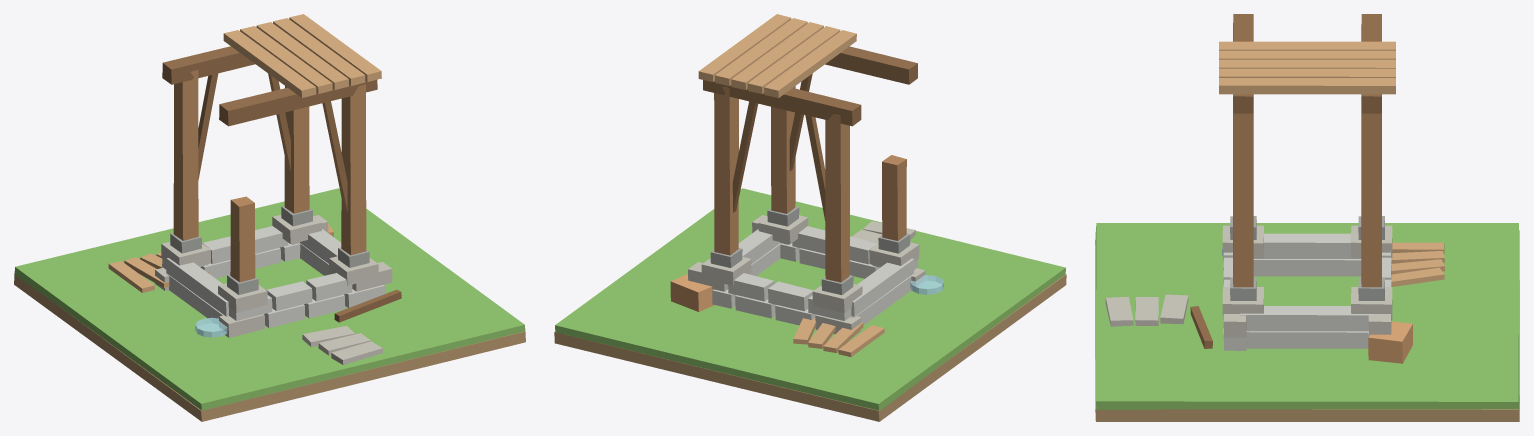
File: tower_l03_damaged_LOD2.glb
The picture shows the model from 3 angles, left to right: view 1: azimuth 30°, elevation 25°; view 2: azimuth 150°, elevation 25°; view 3: azimuth 270°, elevation 25°; orthographic projection. The views are drawn at different scales.
Parts seen in each view (by area): view 1: tower_l03_grass_tile_tower_l03_damaged_LOD2_tmp, tower_l03_earth_tile_tower_l03_damaged_LOD2_tmp, post_-0.61_0.54_tower_l03_damaged_LOD2_tmp, post_0.61_-0.54_tower_l03_damaged_LOD2_tmp, deck_bearer_-0.54_tower_l03_damaged_LOD2_tmp, post_0.61_0.54_tower_l03_damaged_LOD2_tmp, post_-0.61_-0.54_tower_l03_damaged_LOD2_tmp, deck_bearer_0.54_tower_l03_damaged_LOD2_tmp, deck_board_4_tower_l03_damaged_LOD2_tmp, stone_return_1_-0.72_tower_l03_damaged_LOD2_tmp, deck_board_6_tower_l03_damaged_LOD2_tmp, deck_board_7_tower_l03_damaged_LOD2_tmp (+27 smaller); view 2: tower_l03_grass_tile_tower_l03_damaged_LOD2_tmp, tower_l03_earth_tile_tower_l03_damaged_LOD2_tmp, post_-0.61_0.54_tower_l03_damaged_LOD2_tmp, post_0.61_0.54_tower_l03_damaged_LOD2_tmp, deck_bearer_0.54_tower_l03_damaged_LOD2_tmp, post_0.61_-0.54_tower_l03_damaged_LOD2_tmp, post_-0.61_-0.54_tower_l03_damaged_LOD2_tmp, deck_bearer_-0.54_tower_l03_damaged_LOD2_tmp, deck_board_4_tower_l03_damaged_LOD2_tmp, stone_return_1_-0.72_tower_l03_damaged_LOD2_tmp, deck_board_7_tower_l03_damaged_LOD2_tmp, deck_board_8_tower_l03_damaged_LOD2_tmp (+22 smaller); view 3: tower_l03_grass_tile_tower_l03_damaged_LOD2_tmp, tower_l03_earth_tile_tower_l03_damaged_LOD2_tmp, post_0.61_0.54_tower_l03_damaged_LOD2_tmp, post_0.61_-0.54_tower_l03_damaged_LOD2_tmp, deck_board_8_tower_l03_damaged_LOD2_tmp, stone_return_1_0.72_tower_l03_damaged_LOD2_tmp, stone_return_1_-0.72_tower_l03_damaged_LOD2_tmp, stone_return_0_0.72_tower_l03_damaged_LOD2_tmp, stone_return_0_-0.72_tower_l03_damaged_LOD2_tmp, deck_board_4_tower_l03_damaged_LOD2_tmp, deck_board_5_tower_l03_damaged_LOD2_tmp, deck_board_6_tower_l03_damaged_LOD2_tmp (+20 smaller).
Boxes of the visible parts, box(x1,y1,x2,y2) form: tower_l03_grass_tile_tower_l03_damaged_LOD2_tmp: box(14, 188, 525, 410); tower_l03_earth_tile_tower_l03_damaged_LOD2_tmp: box(14, 273, 525, 421); post_-0.61_0.54_tower_l03_damaged_LOD2_tmp: box(173, 70, 198, 240); post_0.61_-0.54_tower_l03_damaged_LOD2_tmp: box(341, 84, 366, 255); deck_bearer_-0.54_tower_l03_damaged_LOD2_tmp: box(219, 80, 377, 126); post_0.61_0.54_tower_l03_damaged_LOD2_tmp: box(284, 86, 309, 213); post_-0.61_-0.54_tower_l03_damaged_LOD2_tmp: box(230, 196, 255, 282); deck_bearer_0.54_tower_l03_damaged_LOD2_tmp: box(162, 46, 254, 84); deck_board_4_tower_l03_damaged_LOD2_tmp: box(223, 30, 316, 97); stone_return_1_-0.72_tower_l03_damaged_LOD2_tmp: box(166, 258, 228, 316); deck_board_6_tower_l03_damaged_LOD2_tmp: box(256, 22, 348, 89); deck_board_7_tower_l03_damaged_LOD2_tmp: box(273, 18, 365, 85); tower_l03_grass_tile_tower_l03_damaged_LOD2_tmp: box(555, 188, 1065, 411); tower_l03_earth_tile_tower_l03_damaged_LOD2_tmp: box(554, 274, 1066, 421); post_-0.61_0.54_tower_l03_damaged_LOD2_tmp: box(825, 113, 849, 282); post_0.61_0.54_tower_l03_damaged_LOD2_tmp: box(714, 86, 738, 255); deck_bearer_0.54_tower_l03_damaged_LOD2_tmp: box(703, 80, 861, 126); post_0.61_-0.54_tower_l03_damaged_LOD2_tmp: box(771, 86, 795, 213); post_-0.61_-0.54_tower_l03_damaged_LOD2_tmp: box(882, 155, 906, 240); deck_bearer_-0.54_tower_l03_damaged_LOD2_tmp: box(825, 46, 917, 84); deck_board_4_tower_l03_damaged_LOD2_tmp: box(764, 30, 856, 98); stone_return_1_-0.72_tower_l03_damaged_LOD2_tmp: box(851, 258, 914, 316); deck_board_7_tower_l03_damaged_LOD2_tmp: box(715, 18, 807, 85); deck_board_8_tower_l03_damaged_LOD2_tmp: box(698, 14, 791, 81); tower_l03_grass_tile_tower_l03_damaged_LOD2_tmp: box(1096, 223, 1518, 409); tower_l03_earth_tile_tower_l03_damaged_LOD2_tmp: box(1095, 230, 1519, 421); post_0.61_0.54_tower_l03_damaged_LOD2_tmp: box(1361, 104, 1381, 287); post_0.61_-0.54_tower_l03_damaged_LOD2_tmp: box(1233, 105, 1253, 287); deck_board_8_tower_l03_damaged_LOD2_tmp: box(1219, 78, 1395, 94); stone_return_1_0.72_tower_l03_damaged_LOD2_tmp: box(1239, 306, 1373, 331); stone_return_1_-0.72_tower_l03_damaged_LOD2_tmp: box(1254, 233, 1360, 258); stone_return_0_0.72_tower_l03_damaged_LOD2_tmp: box(1246, 331, 1368, 348); stone_return_0_-0.72_tower_l03_damaged_LOD2_tmp: box(1253, 259, 1361, 276); deck_board_4_tower_l03_damaged_LOD2_tmp: box(1219, 41, 1395, 50); deck_board_5_tower_l03_damaged_LOD2_tmp: box(1219, 50, 1395, 59); deck_board_6_tower_l03_damaged_LOD2_tmp: box(1219, 59, 1395, 68).
Size of the model in its own units: 3.57 by 2.67 by 3.57.
